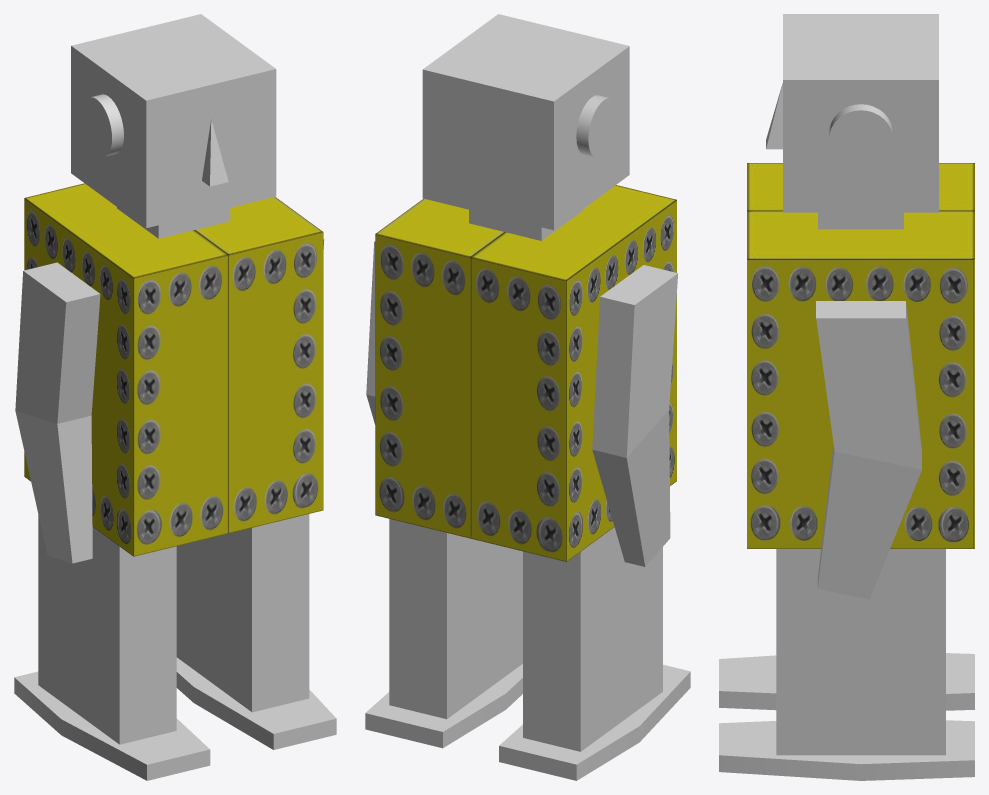
File: robot2.fbx
3 renders of one model, left to right at view 1: azimuth 30°, elevation 25°; view 2: azimuth 150°, elevation 25°; view 3: azimuth 270°, elevation 25°, orthographic. The views are drawn at different scales.
Visible parts, largest first — view 1: Cube, Cube.005, Cube.003, Cube.001, Cube.004, Cube.002; view 2: Cube, Cube.005, Cube.003, Cube.001, Cube.004, Cube.002; view 3: Cube, Cube.005, Cube.003, Cube.001, Cube.004, Cube.002.
Boxes of the visible parts, x1,y1,x2,y2 form: Cube: (24, 183, 323, 556); Cube.005: (14, 514, 336, 780); Cube.003: (71, 14, 276, 228); Cube.001: (15, 239, 324, 563); Cube.004: (81, 94, 123, 157); Cube.002: (117, 207, 230, 238); Cube: (375, 185, 676, 561); Cube.005: (365, 519, 690, 780); Cube.003: (422, 14, 629, 230); Cube.001: (366, 241, 678, 566); Cube.004: (576, 95, 619, 158); Cube.002: (469, 209, 583, 240); Cube: (747, 163, 974, 548); Cube.005: (719, 549, 974, 780); Cube.003: (766, 14, 938, 212); Cube.001: (816, 301, 921, 599); Cube.004: (829, 104, 892, 167); Cube.002: (818, 212, 903, 229).
Bounding box in the file's own units: 272 × 656 × 225.
Materials: 1 (1 with a texture image).
